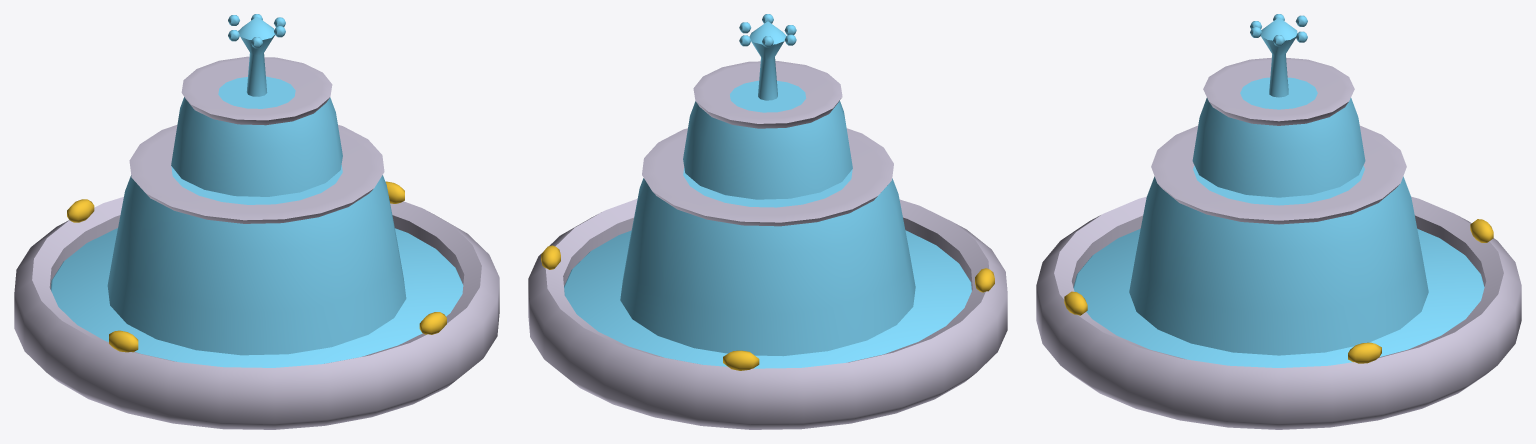
File: W1_Fountain_Tiered.fbx
3 renders of one model, left to right at view 1: azimuth 30°, elevation 25°; view 2: azimuth 150°, elevation 25°; view 3: azimuth 270°, elevation 25°, orthographic.
Parts seen in each view (by area): view 1: W1_Fountain_Tiered; view 2: W1_Fountain_Tiered; view 3: W1_Fountain_Tiered.
Part boxes in pixels (<box>): W1_Fountain_Tiered: <box>14,14,499,429</box>; W1_Fountain_Tiered: <box>528,14,1007,429</box>; W1_Fountain_Tiered: <box>1036,14,1521,429</box>.
Size of the model in its own units: 5.5 by 3.95 by 5.5.
